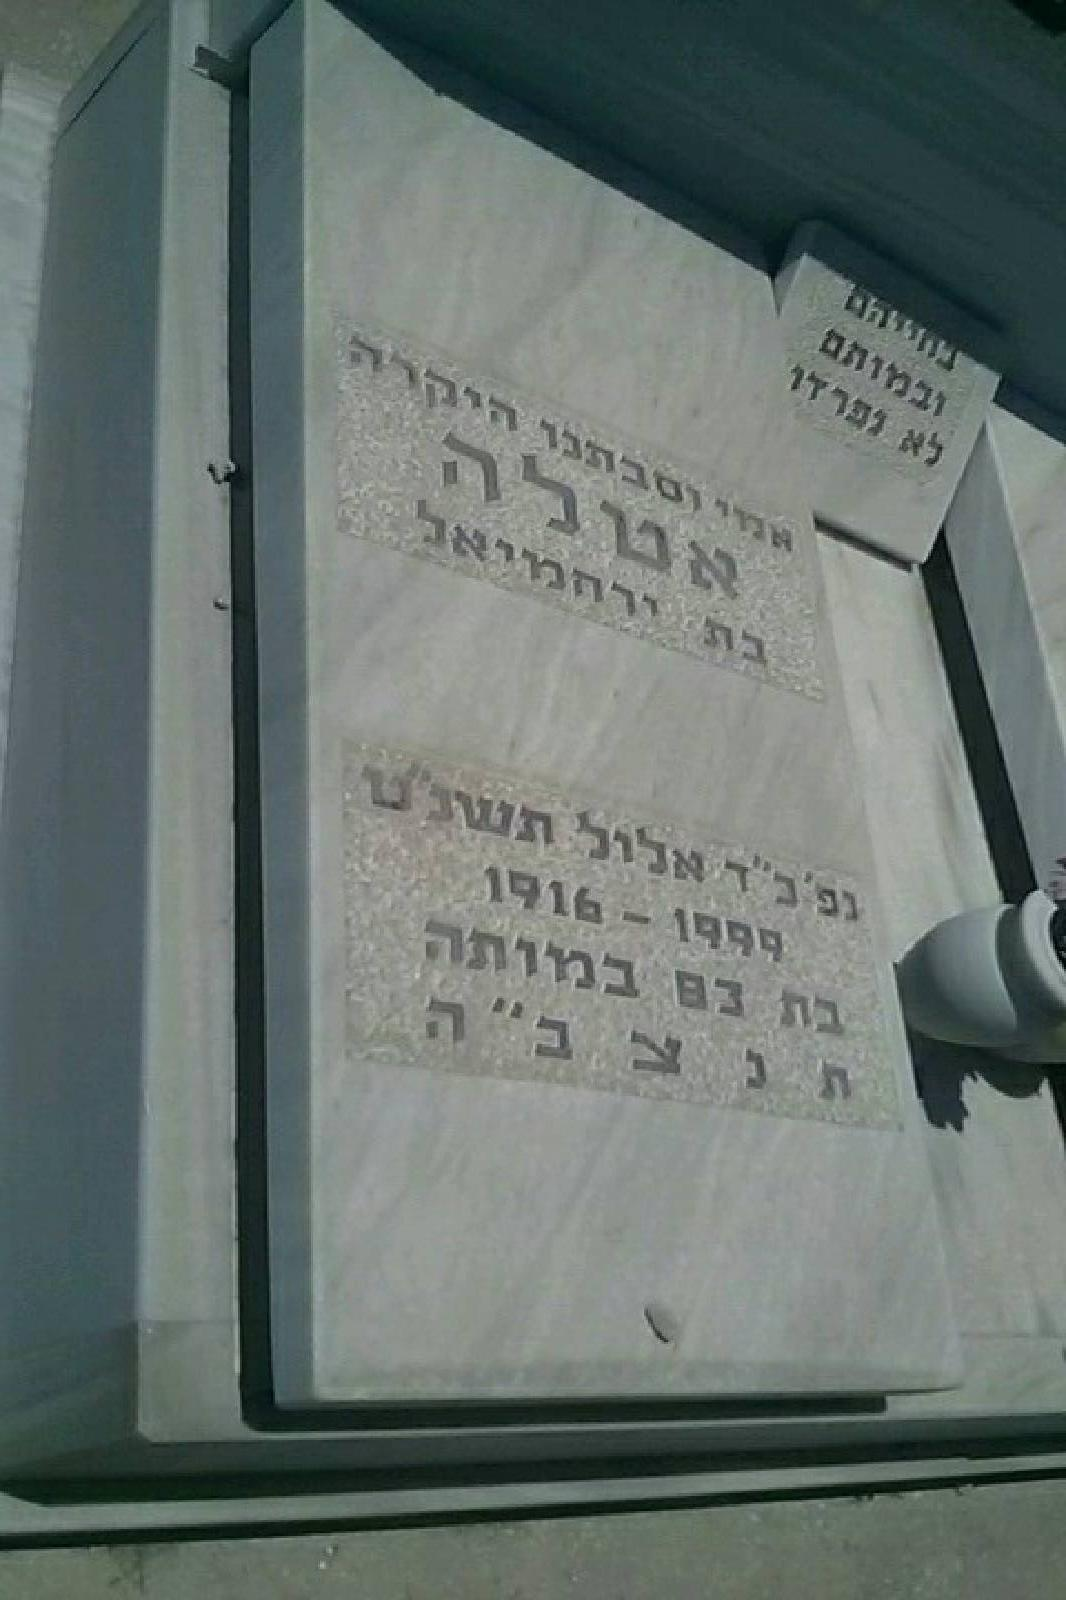vault: (0, 2, 1066, 1504)
